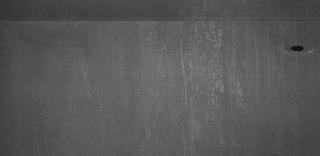punching hole: (290, 44, 304, 54)
welding line: (2, 14, 318, 26)
